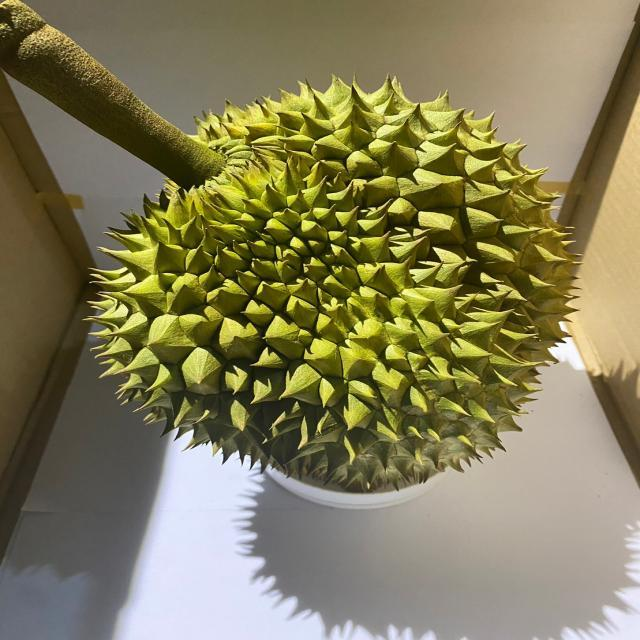immature: (83, 71, 586, 489)
